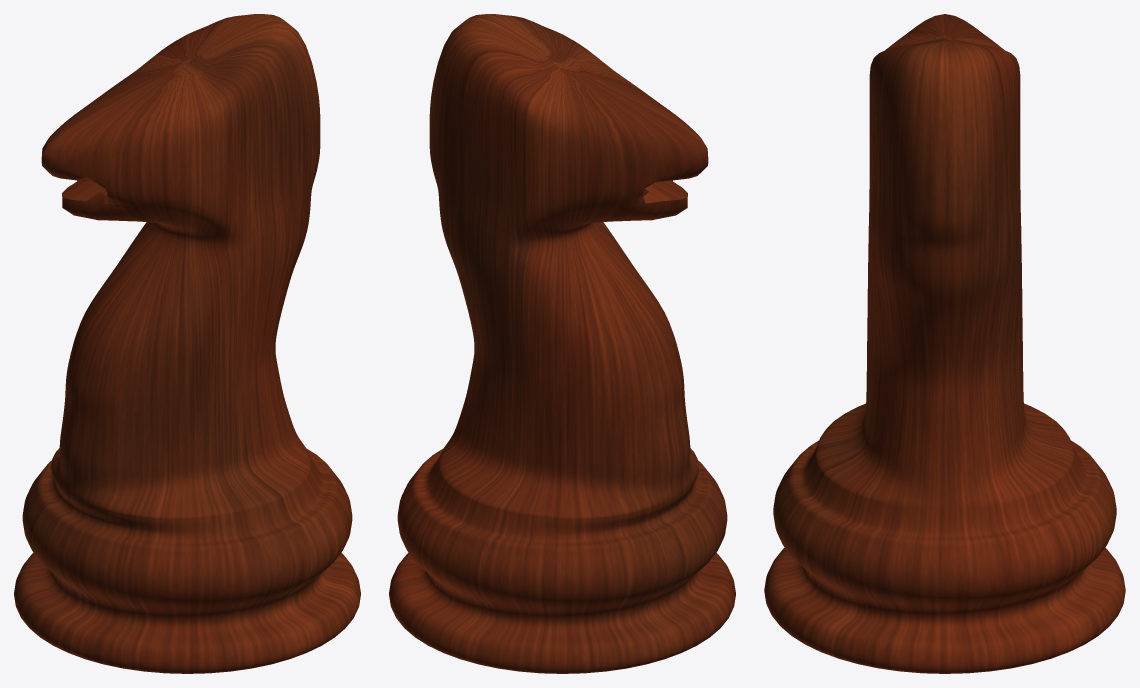
The model's file is knight.gltf.
3 renders of one model, left to right at view 1: azimuth 30°, elevation 25°; view 2: azimuth 150°, elevation 25°; view 3: azimuth 270°, elevation 25°, orthographic. The views are drawn at different scales.
Parts seen in each view (by area): view 1: mesh01; view 2: mesh01; view 3: mesh01.
Boxes of the visible parts, x1,y1,x2,y2 form: mesh01: (14,14,360,673); mesh01: (389,14,735,673); mesh01: (764,14,1125,673).
Bounding box in the file's own units: 11.28 × 20.35 × 11.28.
1 material, 1 textured.
